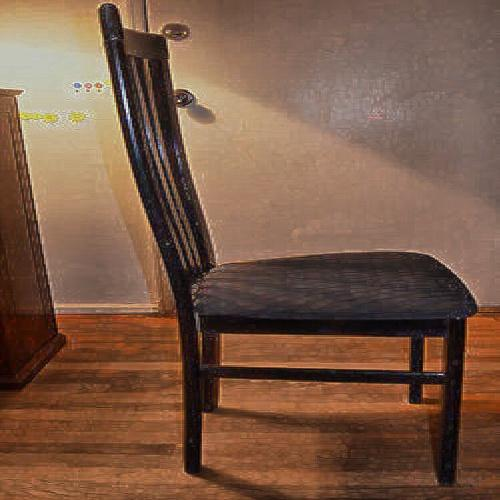chair: (98, 7, 480, 452)
